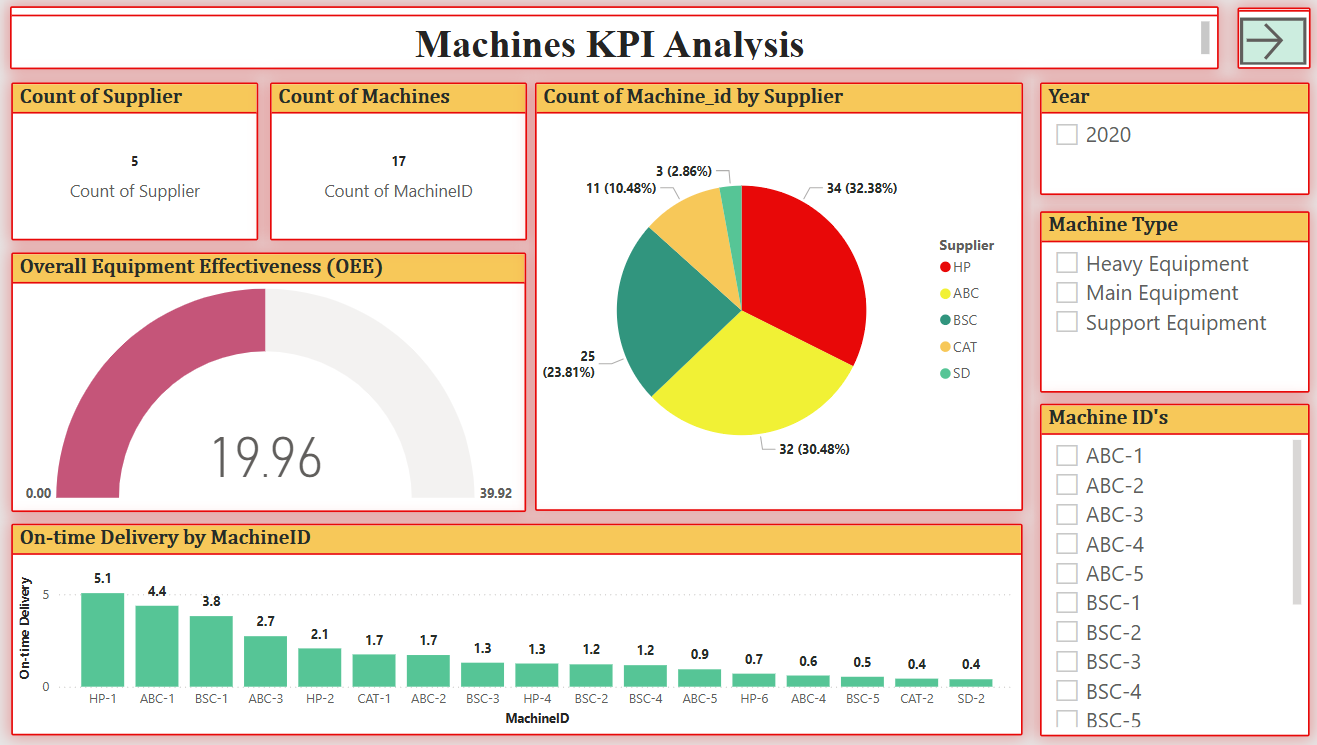

The dashboard page shown, as its layout file describes it:
{"tool":"powerbi","page":{"name":"KPI","canvas":[1280,720],"ordinal":0},"visuals":[{"type":"gauge","fields":{"Y":["Sum(DQ.Overall Equipment Effectiveness (OEE))"]},"box":[15.5,249.6,490.7,247.2],"z":0},{"type":"textbox","box":[14.3,15.5,1151,59.7],"z":1000},{"type":"card","title":"Count of Supplier","fields":{"Values":["Count(KPI.Supplier)"]},"box":[15.5,88.4,235.2,150.4],"z":2000},{"type":"card","title":"Count of Machines","fields":{"Values":["Count(KPI.MachineID)"]},"box":[261.5,88.4,244.8,150.4],"z":3000},{"type":"pieChart","title":"Count of Machine_id by Supplier","fields":{"Category":["KPI.Supplier"],"Y":["CountNonNull(KPI.MachineID)"]},"box":[514.6,88.4,464.5,408.4],"z":4000},{"type":"slicer","title":"Year","fields":{"Values":["KPI.Date.Variation.Date Hierarchy.Year"]},"box":[995.8,88.4,256.7,107.5],"z":5000},{"type":"slicer","title":"Machine Type","fields":{"Values":["DimMachine.Machine Type"]},"box":[995.7,210.1,256.8,173],"z":6000},{"type":"slicer","title":"Machine ID''s","fields":{"Values":["KPI.MachineID"]},"box":[995.8,394,256.7,316.4],"z":7000},{"type":"clusteredColumnChart","fields":{"Category":["KPI.MachineID"],"Y":["Sum(KPI.On-time Delivery)"]},"box":[15.5,508.7,963.6,201.8],"z":8000},{"type":"actionButton","box":[1183.3,16.7,69.3,58.5],"z":9000}]}

Visuals, with their boxes in screenshot pixels (x1, y1, x2, y2), scaled from the page's 1280x720 canvas onto the 1317x745 screenshot:
gauge - Sum(DQ.Overall Equipment Effectiveness (OEE)): x1=16 y1=258 x2=521 y2=514
textbox: x1=15 y1=16 x2=1199 y2=78
"Count of Supplier" card: x1=16 y1=91 x2=258 y2=247
"Count of Machines" card: x1=269 y1=91 x2=521 y2=247
"Count of Machine_id by Supplier" pieChart: x1=529 y1=91 x2=1007 y2=514
"Year" slicer: x1=1025 y1=91 x2=1289 y2=203
"Machine Type" slicer: x1=1024 y1=217 x2=1289 y2=396
"Machine ID''s" slicer: x1=1025 y1=408 x2=1289 y2=735
clusteredColumnChart - KPI.MachineID x Sum(KPI.On-time Delivery): x1=16 y1=526 x2=1007 y2=735
actionButton: x1=1218 y1=17 x2=1289 y2=78
